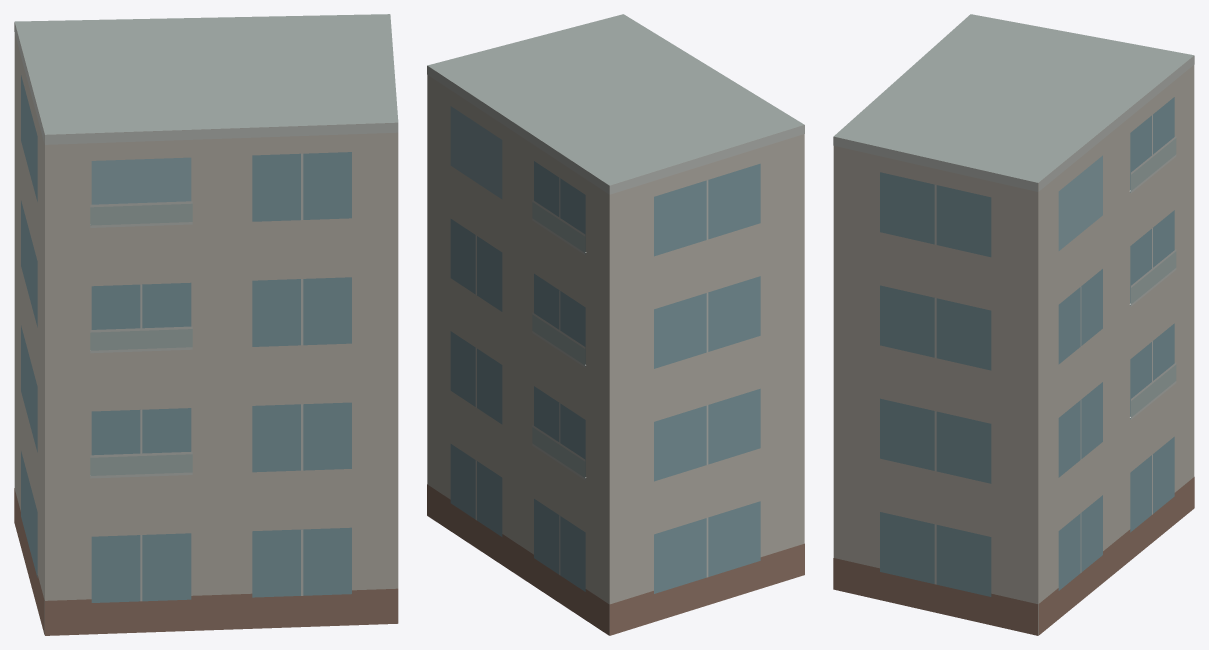
The model's file is survey-upis-32725408.glb.
The picture shows the model from 3 angles, left to right: view 1: azimuth 30°, elevation 25°; view 2: azimuth 150°, elevation 25°; view 3: azimuth 270°, elevation 25°; orthographic projection. The views are drawn at different scales.
Visible parts, largest first — view 1: survey-upis-32725408.tmp; view 2: survey-upis-32725408.tmp; view 3: survey-upis-32725408.tmp.
Boxes of the visible parts, x1,y1,x2,y2 form: survey-upis-32725408.tmp: (14, 14, 398, 635); survey-upis-32725408.tmp: (427, 14, 804, 635); survey-upis-32725408.tmp: (833, 14, 1194, 635).
Size of the model in its own units: 9.69 by 12.1 by 8.75.
